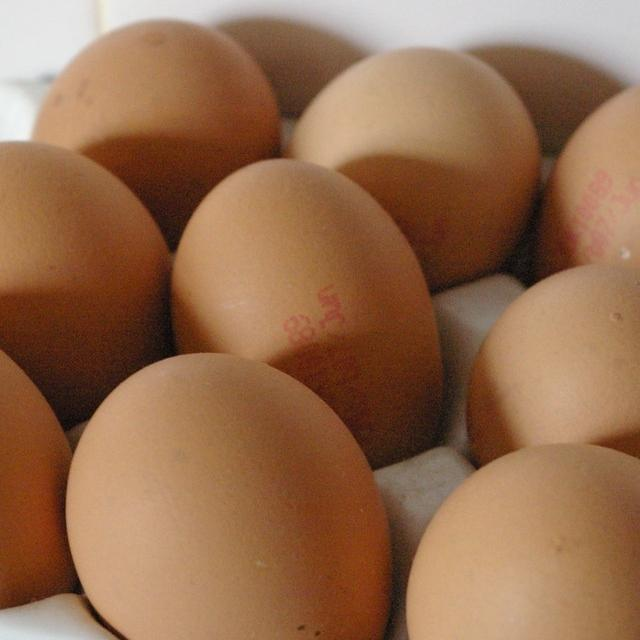egg: (64, 350, 393, 640), (169, 156, 444, 468), (286, 44, 542, 288), (31, 16, 281, 248), (0, 138, 172, 426), (404, 441, 640, 640), (464, 261, 640, 510), (534, 71, 640, 323), (0, 300, 77, 640)
